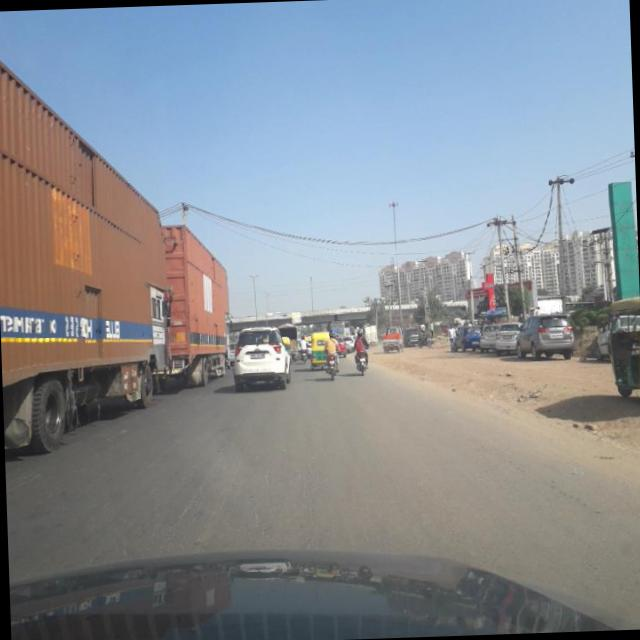crack: (126, 424, 357, 546)
